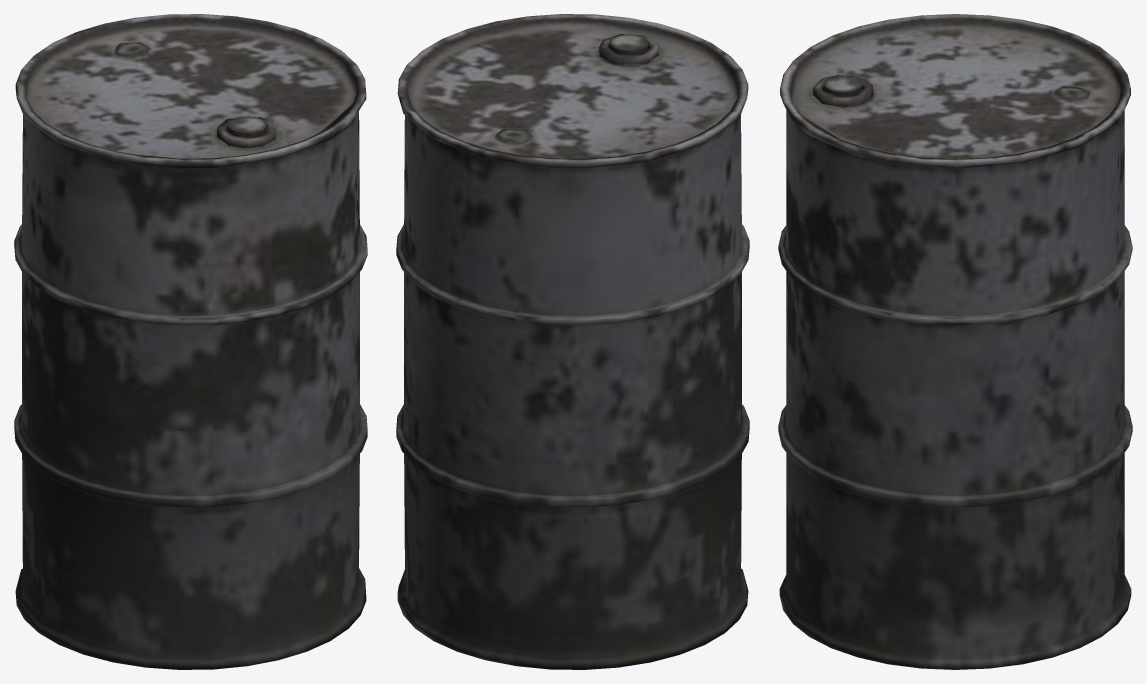
File: barrel.glb
3 views of the same model, side by side, from view 1: azimuth 30°, elevation 25°; view 2: azimuth 150°, elevation 25°; view 3: azimuth 270°, elevation 25° (orthographic).
Parts seen in each view (by area): view 1: barrel; view 2: barrel; view 3: barrel.
Part boxes in pixels (box(x1,y1,x2,y2)): barrel: box(14, 14, 367, 669); barrel: box(396, 14, 749, 669); barrel: box(778, 14, 1132, 669).
Size of the model in its own units: 0.5953 by 0.95 by 0.5953.
Materials: 1 (1 with a texture image).
